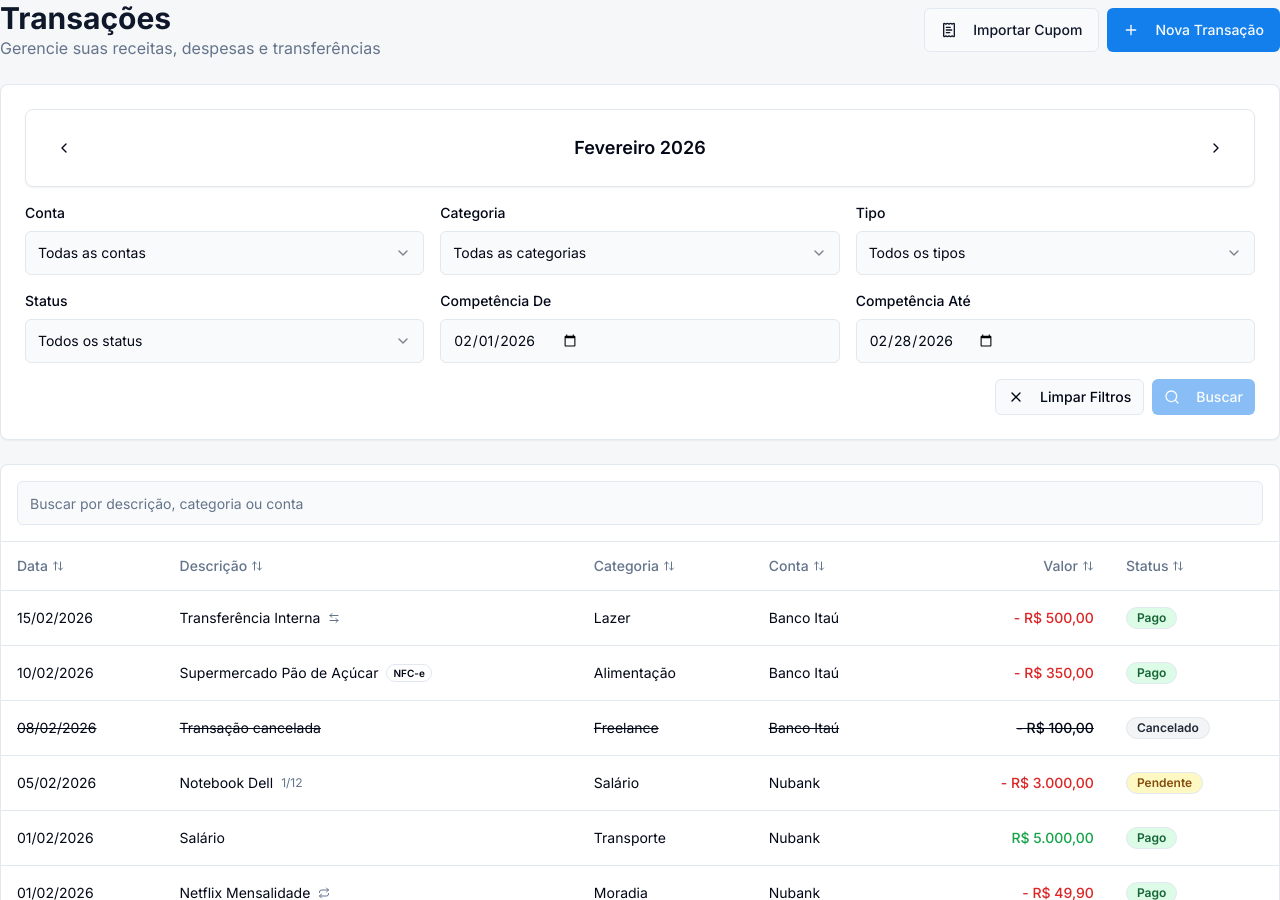
Scenario: TransactionsPage Integration Tests › Transaction Creation Flow › opens create modal when button is clicked
The image size is (1280, 900).
Expected: the heading "Transações" is shown, [0,0,171,36]
Step 1. Click the button "Nova Transação" → [1194, 30], box [1107,8,1279,52]
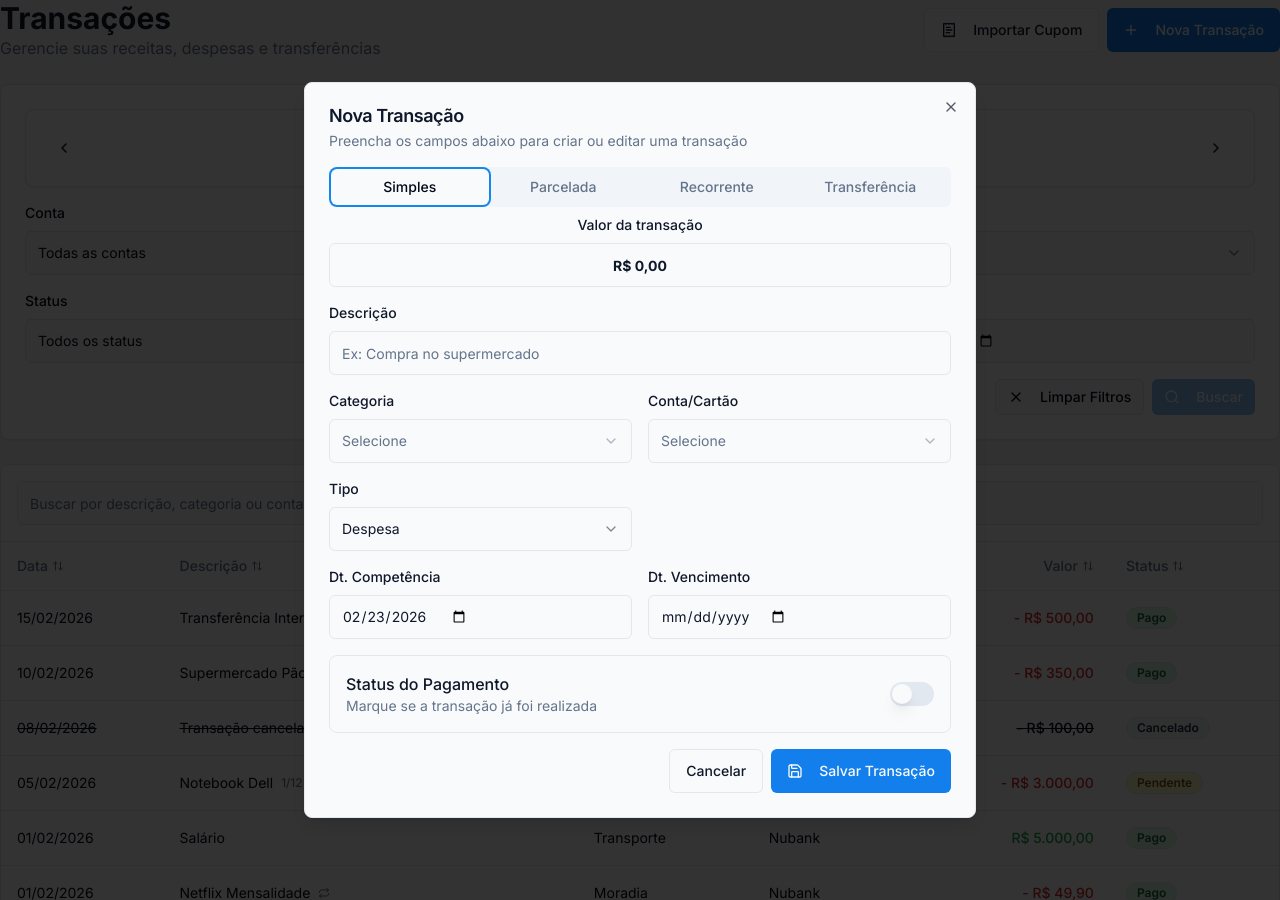
Expected: the dialog is shown, [304,82,976,818]
Expected: the heading "Nova Transação" is shown, [329,105,464,126]
